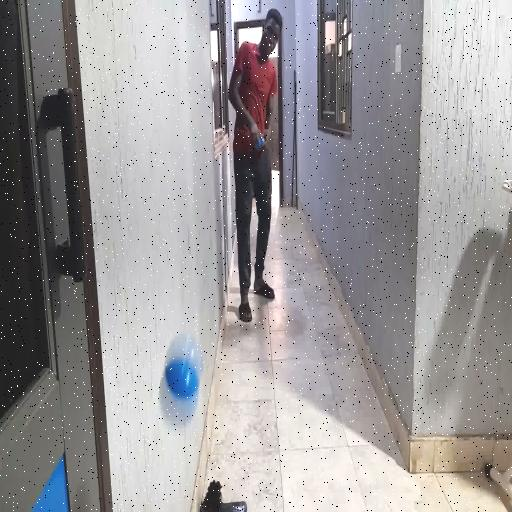plastic-ball: (156, 332, 204, 432)
